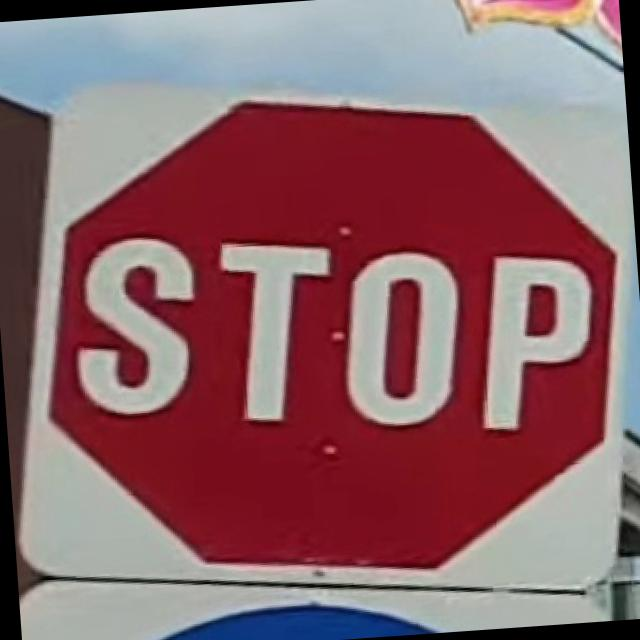mandatorystop_sign: (3, 64, 640, 626)
